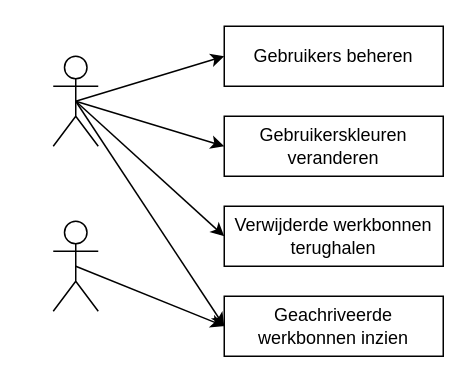
Some shapes in this 470 by 383 pixel diagram are drawn without their labels. Each missing label, with the centre of its shape:
"Manager" belongs at (75,100).
"Medewerker" belongs at (75,265).
